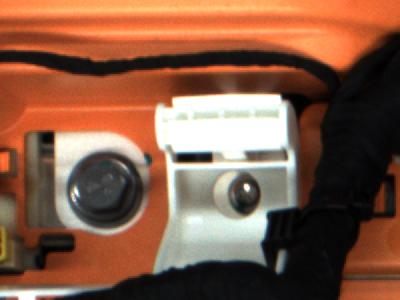nut_b: (62, 150, 154, 232)
